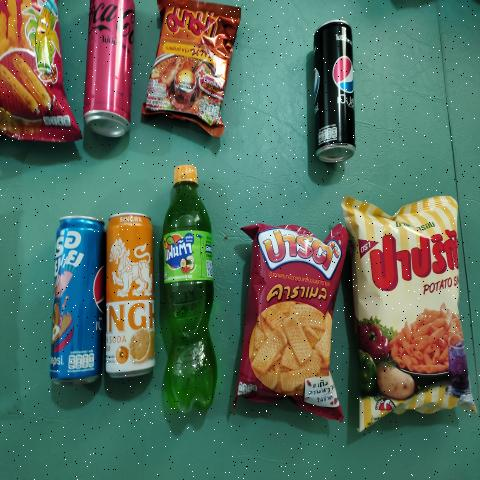coke_red: (80, 0, 131, 137)
fanta_green: (167, 160, 222, 427)
mama: (154, 0, 226, 132)
paprika: (355, 213, 469, 414)
party_red: (249, 226, 339, 405)
pepsi_black: (313, 20, 357, 162)
pepsi_blue: (56, 218, 100, 385)
singha_yellow: (109, 208, 156, 387)
